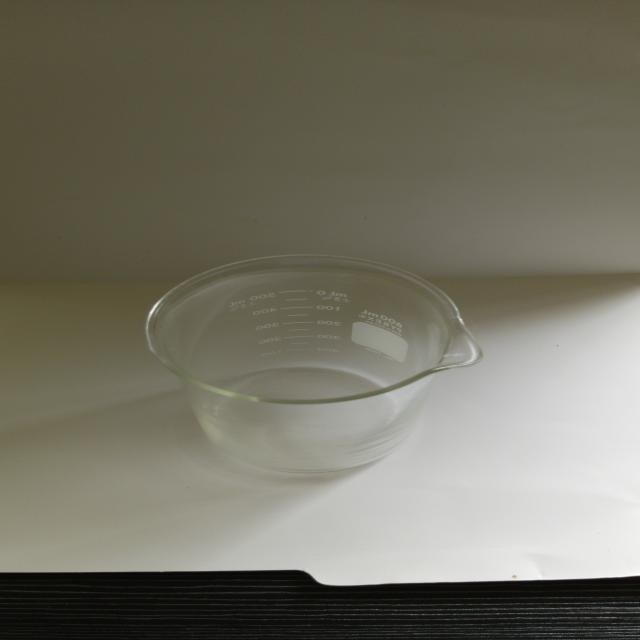beaker: (136, 246, 491, 476)
